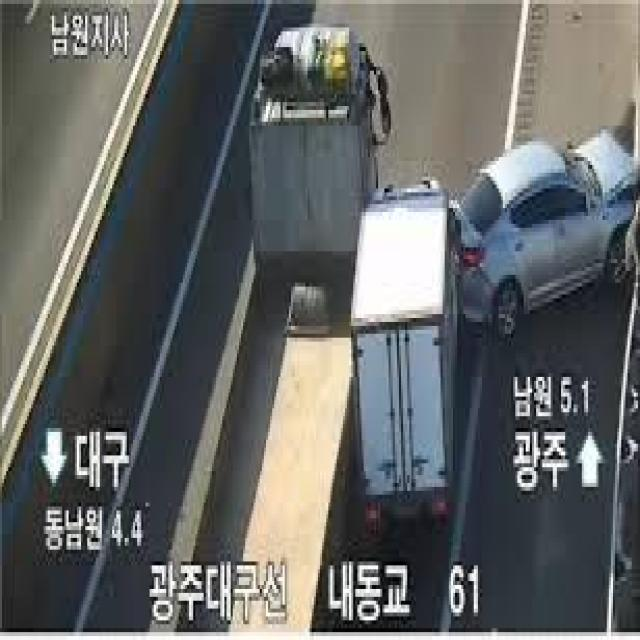car Accident: (329, 97, 623, 520)
